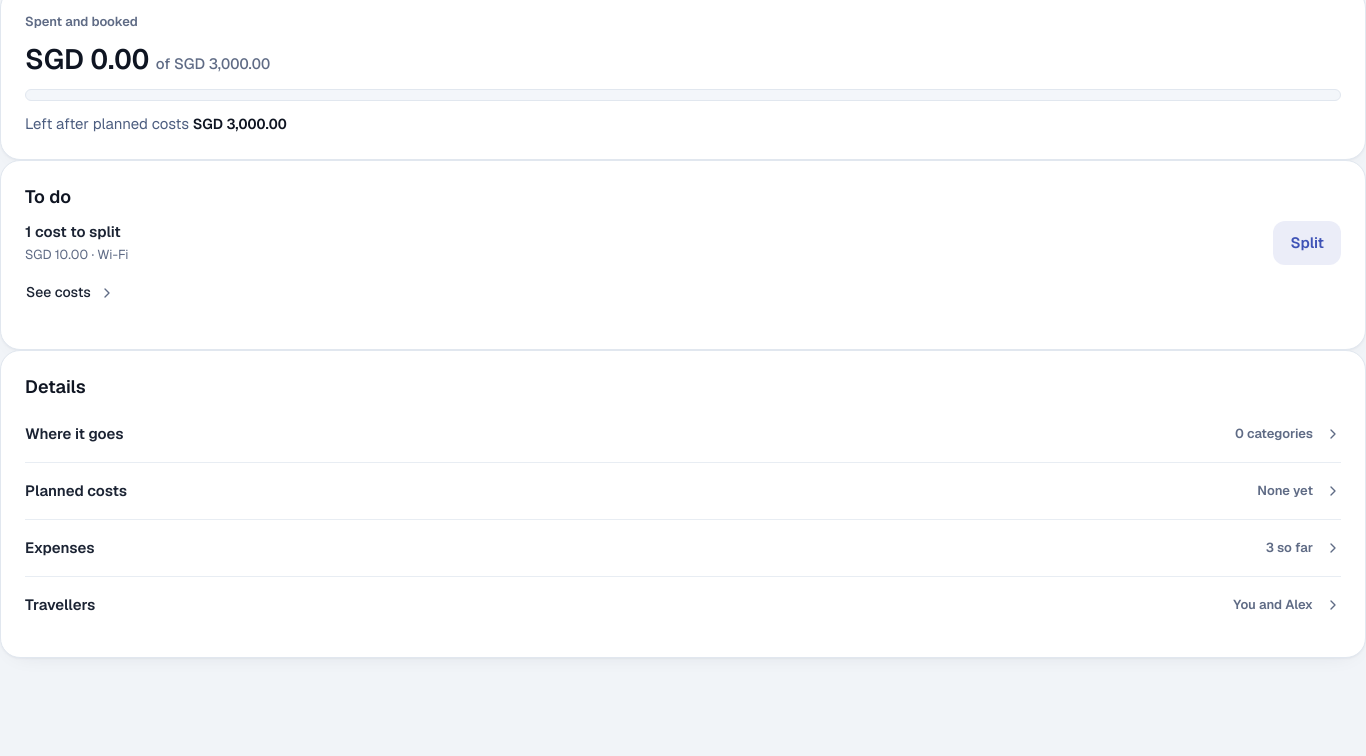
Details › tags each expense by how it stands with the people going
Step 1. Click the button "Expenses 3 so far" → (60, 547), box left=25, top=520, right=1341, bottom=576
(page scrolled)
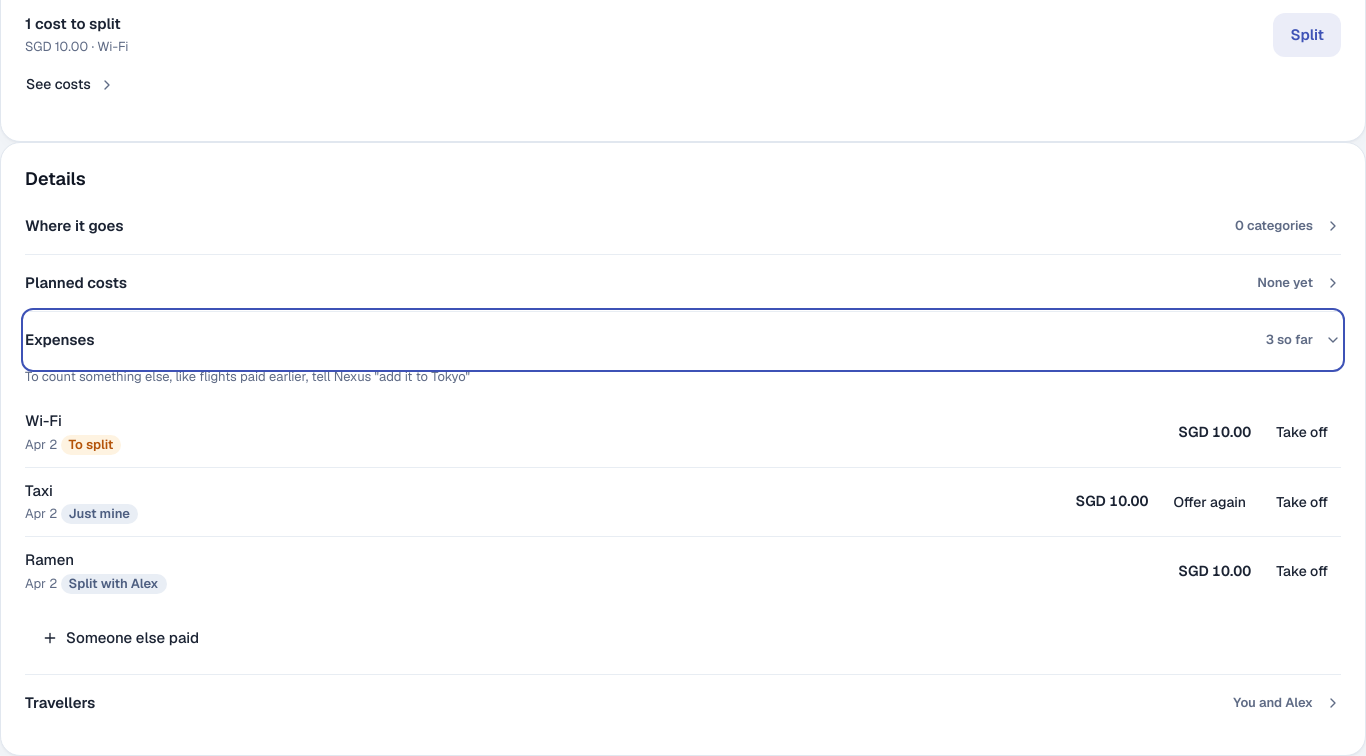
Result: the button with aria-label "Take Wi-Fi off the trip" is shown at left=1263, top=416, right=1341, bottom=450
Result: the button with aria-label "Offer Taxi for splitting again" is shown at left=1160, top=485, right=1259, bottom=519
Result: the button "Someone else paid" is shown at left=25, top=618, right=216, bottom=658
